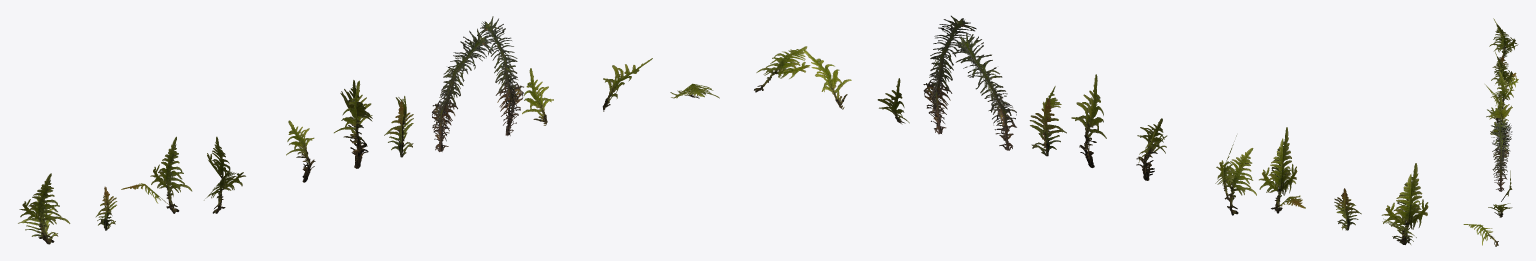
File: moss_01.glb
3 renders of one model, left to right at view 1: azimuth 30°, elevation 25°; view 2: azimuth 150°, elevation 25°; view 3: azimuth 270°, elevation 25°, orthographic. The views are drawn at different scales.
Parts seen in each view (by area): view 1: moss_01_tall_a_LOD0, moss_01_tall_b_LOD0, moss_01_a_LOD0, moss_01_f_LOD0, moss_01_c_LOD0, moss_01_d_LOD0, moss_01_g_LOD0, moss_01_h_LOD0, moss_01_e_LOD0, moss_01_i_LOD0, moss_01_b_LOD0; view 2: moss_01_tall_b_LOD0, moss_01_tall_a_LOD0, moss_01_a_LOD0, moss_01_c_LOD0, moss_01_d_LOD0, moss_01_f_LOD0, moss_01_g_LOD0, moss_01_j_LOD0, moss_01_e_LOD0, moss_01_i_LOD0, moss_01_b_LOD0, moss_01_h_LOD0; view 3: moss_01_tall_b_LOD0, moss_01_a_LOD0, moss_01_c_LOD0, moss_01_d_LOD0, moss_01_tall_a_LOD0, moss_01_f_LOD0, moss_01_j_LOD0, moss_01_i_LOD0, moss_01_e_LOD0, moss_01_b_LOD0, moss_01_g_LOD0, moss_01_h_LOD0.
Boxes of the visible parts, left/top/right/bottom form: moss_01_tall_a_LOD0: left=432, top=28, right=493, bottom=151; moss_01_tall_b_LOD0: left=477, top=16, right=523, bottom=135; moss_01_a_LOD0: left=18, top=173, right=70, bottom=244; moss_01_f_LOD0: left=334, top=80, right=372, bottom=168; moss_01_c_LOD0: left=121, top=136, right=192, bottom=213; moss_01_d_LOD0: left=204, top=136, right=245, bottom=213; moss_01_g_LOD0: left=384, top=96, right=413, bottom=157; moss_01_h_LOD0: left=522, top=68, right=553, bottom=125; moss_01_e_LOD0: left=286, top=120, right=315, bottom=182; moss_01_i_LOD0: left=602, top=58, right=652, bottom=111; moss_01_b_LOD0: left=95, top=186, right=117, bottom=230; moss_01_tall_b_LOD0: left=923, top=15, right=976, bottom=134; moss_01_tall_a_LOD0: left=952, top=33, right=1016, bottom=150; moss_01_a_LOD0: left=1381, top=163, right=1428, bottom=244; moss_01_c_LOD0: left=1259, top=127, right=1305, bottom=213; moss_01_d_LOD0: left=1215, top=135, right=1256, bottom=215; moss_01_f_LOD0: left=1071, top=74, right=1106, bottom=167; moss_01_g_LOD0: left=1029, top=86, right=1066, bottom=156; moss_01_j_LOD0: left=754, top=46, right=810, bottom=92; moss_01_e_LOD0: left=1136, top=118, right=1167, bottom=180; moss_01_i_LOD0: left=801, top=48, right=851, bottom=109; moss_01_b_LOD0: left=1334, top=188, right=1361, bottom=230; moss_01_h_LOD0: left=877, top=78, right=909, bottom=124; moss_01_tall_b_LOD0: left=1490, top=118, right=1510, bottom=191; moss_01_a_LOD0: left=1489, top=18, right=1518, bottom=60; moss_01_c_LOD0: left=1491, top=50, right=1518, bottom=96; moss_01_d_LOD0: left=1485, top=70, right=1514, bottom=108; moss_01_tall_a_LOD0: left=1493, top=123, right=1512, bottom=172; moss_01_f_LOD0: left=1489, top=96, right=1512, bottom=139; moss_01_j_LOD0: left=1463, top=224, right=1498, bottom=246; moss_01_i_LOD0: left=1488, top=203, right=1512, bottom=217; moss_01_e_LOD0: left=1486, top=94, right=1508, bottom=129; moss_01_b_LOD0: left=1492, top=55, right=1508, bottom=77; moss_01_g_LOD0: left=1490, top=122, right=1506, bottom=152; moss_01_h_LOD0: left=1501, top=170, right=1512, bottom=201.
Bounding box in the file's own units: 0.2153 × 0.0404 × 0.0294.
Materials: 1 (1 with a texture image).
